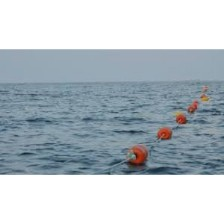buoy: (129, 145, 148, 165), (158, 127, 173, 139), (176, 114, 187, 125), (188, 105, 196, 113), (200, 94, 207, 100)
